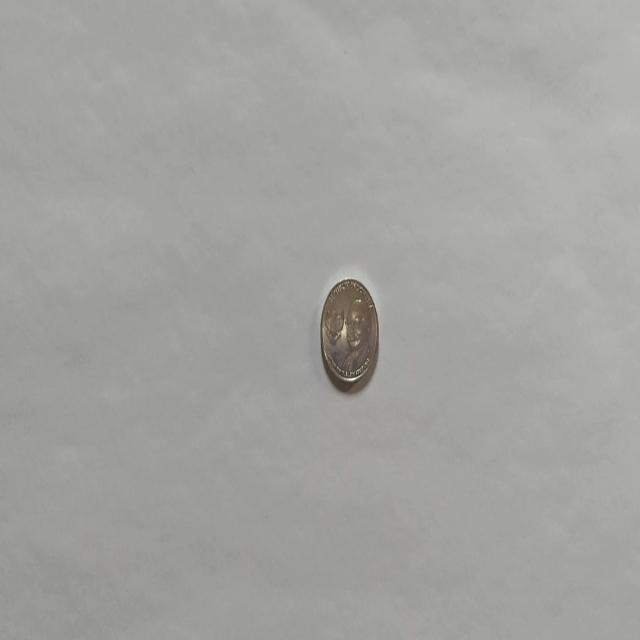lima ratus rupiah: (319, 276, 379, 385)
